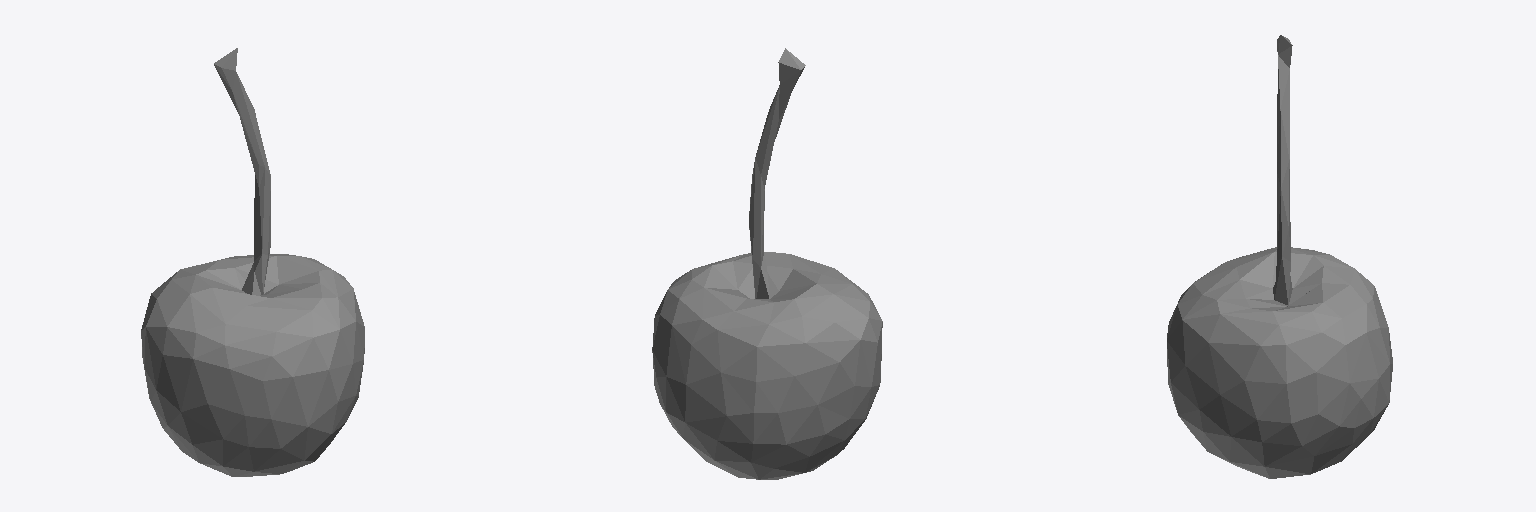
File: cherryO.obj
The picture shows the model from 3 angles: view 1: azimuth 30°, elevation 25°; view 2: azimuth 150°, elevation 25°; view 3: azimuth 270°, elevation 25°; orthographic projection.
Bounding box in the file's own units: 5.35 × 10.68 × 5.16.